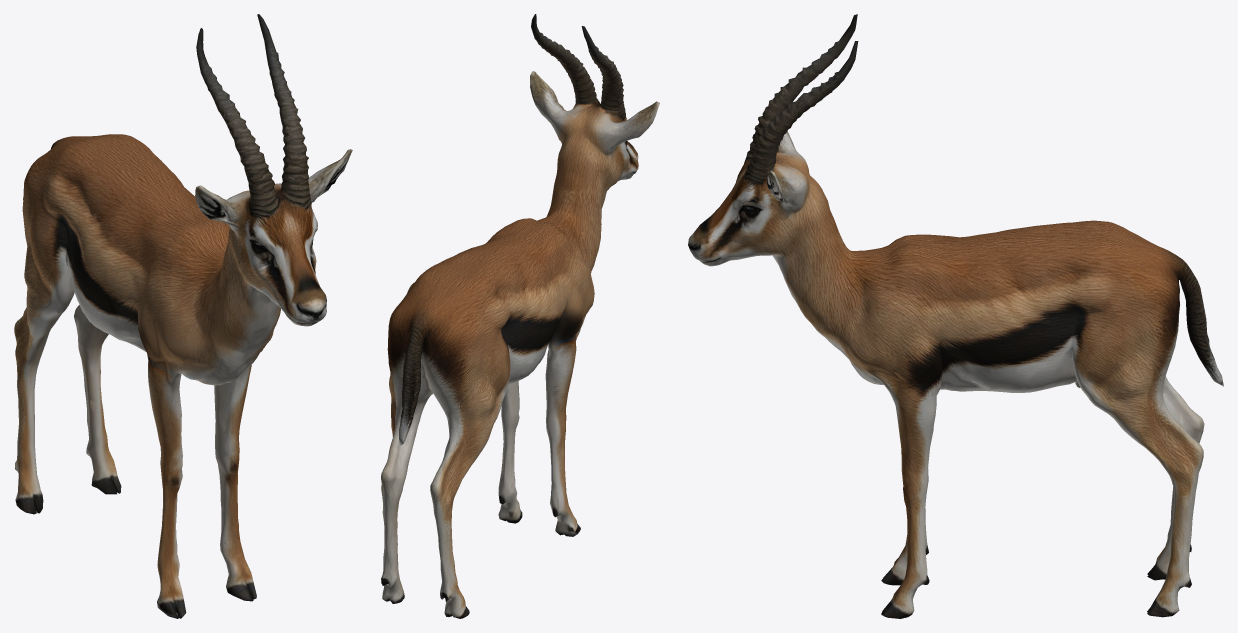
The model's file is gazelle.glb.
3 renders of one model, left to right at view 1: azimuth 30°, elevation 25°; view 2: azimuth 150°, elevation 25°; view 3: azimuth 270°, elevation 25°, orthographic. The views are drawn at different scales.
Parts seen in each view (by area): view 1: tripo_node_0dfbf715-9997-4890-8e9b-a278e45fcdd5; view 2: tripo_node_0dfbf715-9997-4890-8e9b-a278e45fcdd5; view 3: tripo_node_0dfbf715-9997-4890-8e9b-a278e45fcdd5.
Boxes of the visible parts, x1=… form: tripo_node_0dfbf715-9997-4890-8e9b-a278e45fcdd5: x1=14, y1=14, x2=352, y2=618; tripo_node_0dfbf715-9997-4890-8e9b-a278e45fcdd5: x1=381, y1=14, x2=659, y2=618; tripo_node_0dfbf715-9997-4890-8e9b-a278e45fcdd5: x1=688, y1=14, x2=1223, y2=618.
Bounding box in the file's own units: 0.2714 × 1 × 0.8489.
Materials: 1 (1 with a texture image).
